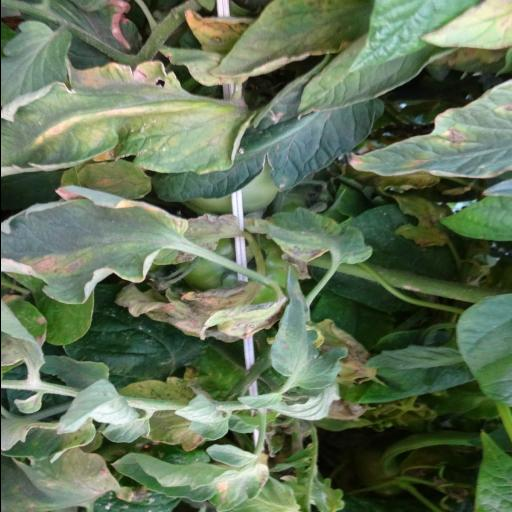Late Blight: (0, 60, 248, 174), (0, 188, 208, 302), (339, 64, 511, 196), (98, 442, 279, 512), (270, 266, 352, 394), (251, 205, 377, 270)
